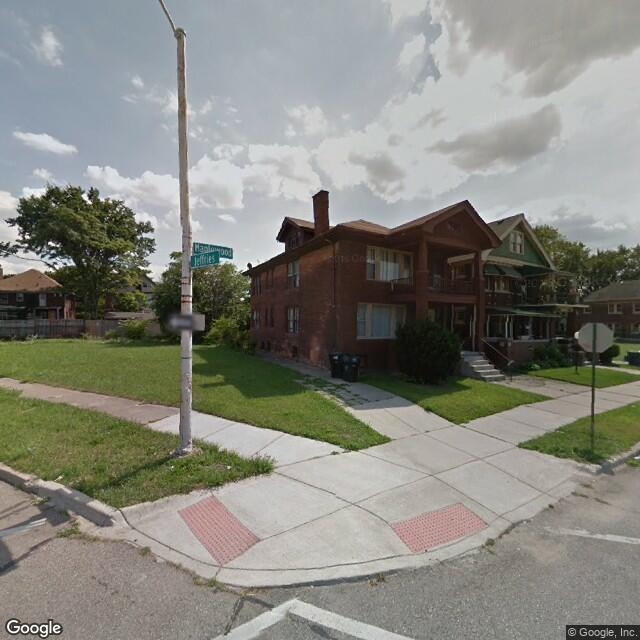litter: (223, 460, 236, 475), (628, 449, 640, 464), (162, 461, 181, 470)
